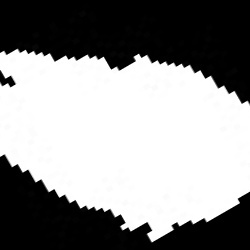spot: (1, 48, 248, 244)
